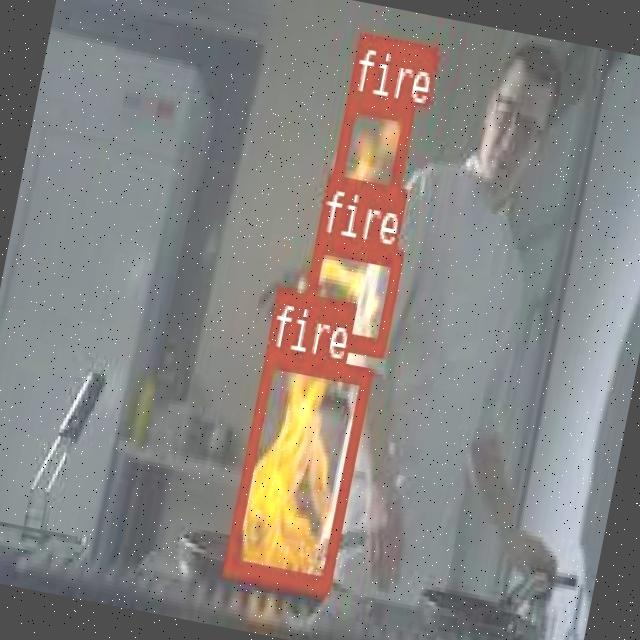fire: (222, 344, 372, 592), (296, 232, 403, 354), (327, 90, 414, 208)
